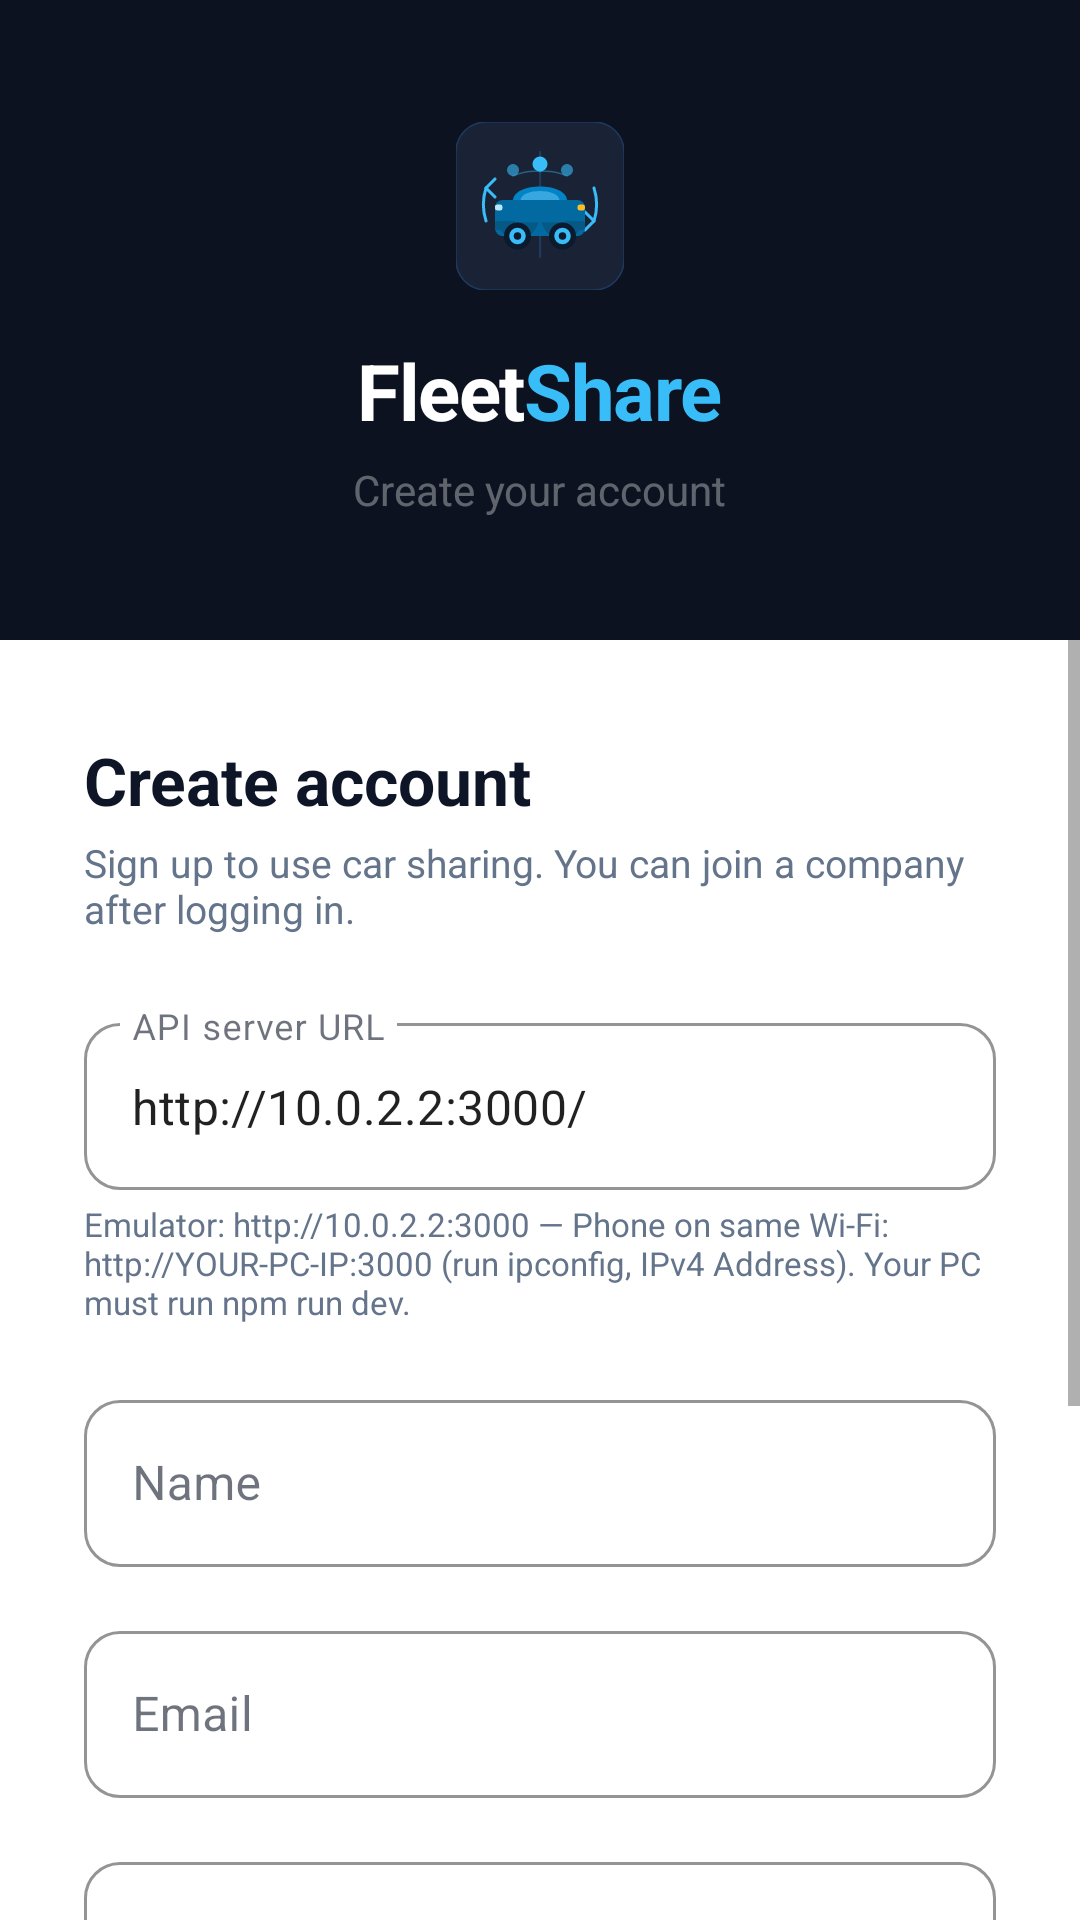

Screen size 1080 × 1920. Icon name, then its center in pixels as point (x, y):
brand mark: point (540, 206)
